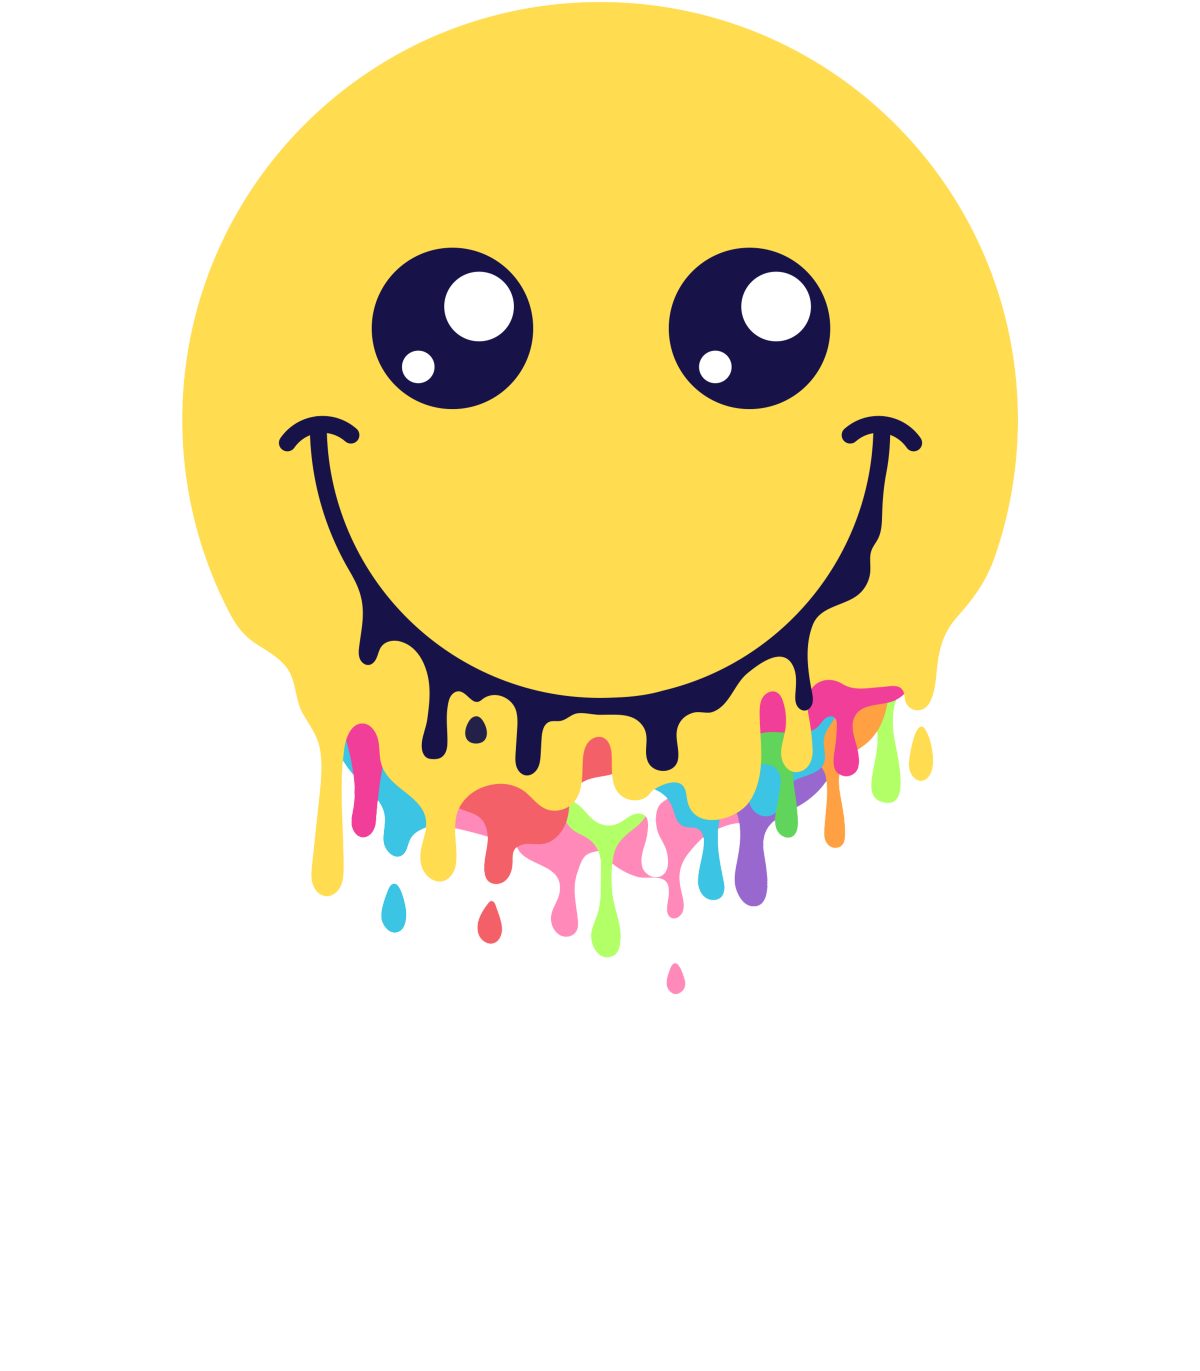design: (164, 1, 1034, 1013)
